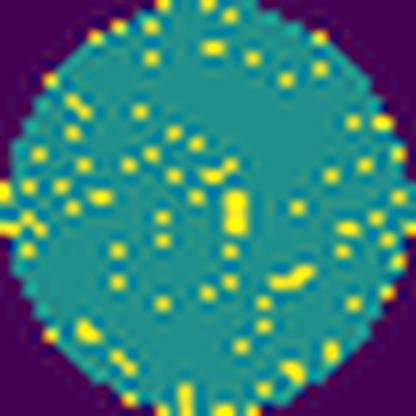Center: (215, 190, 253, 246)
